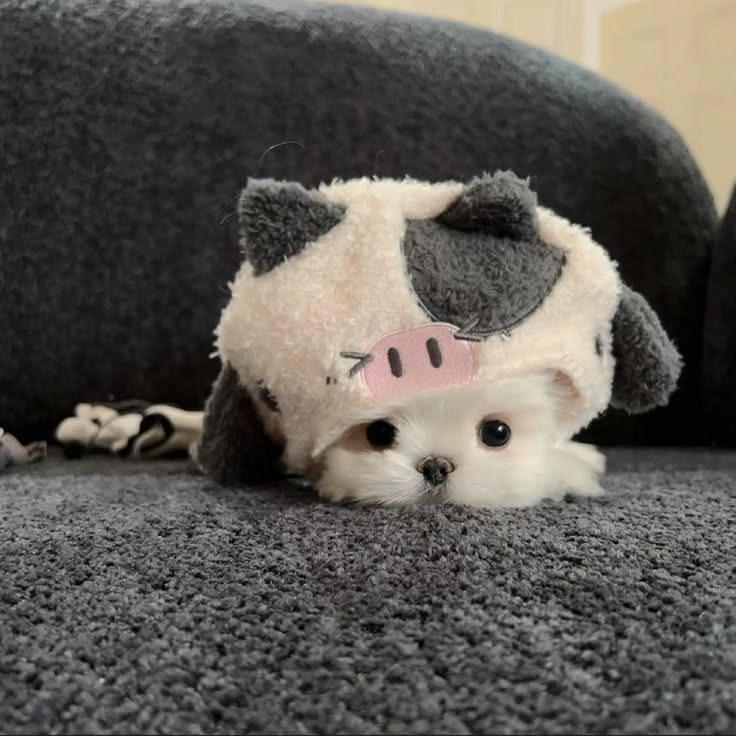puppy-dog: (307, 368, 610, 514)
